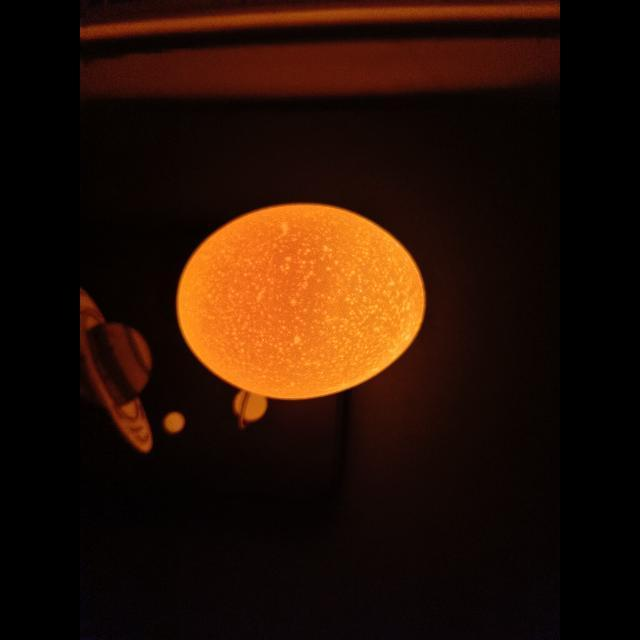AA - Premium: (176, 204, 425, 399)
